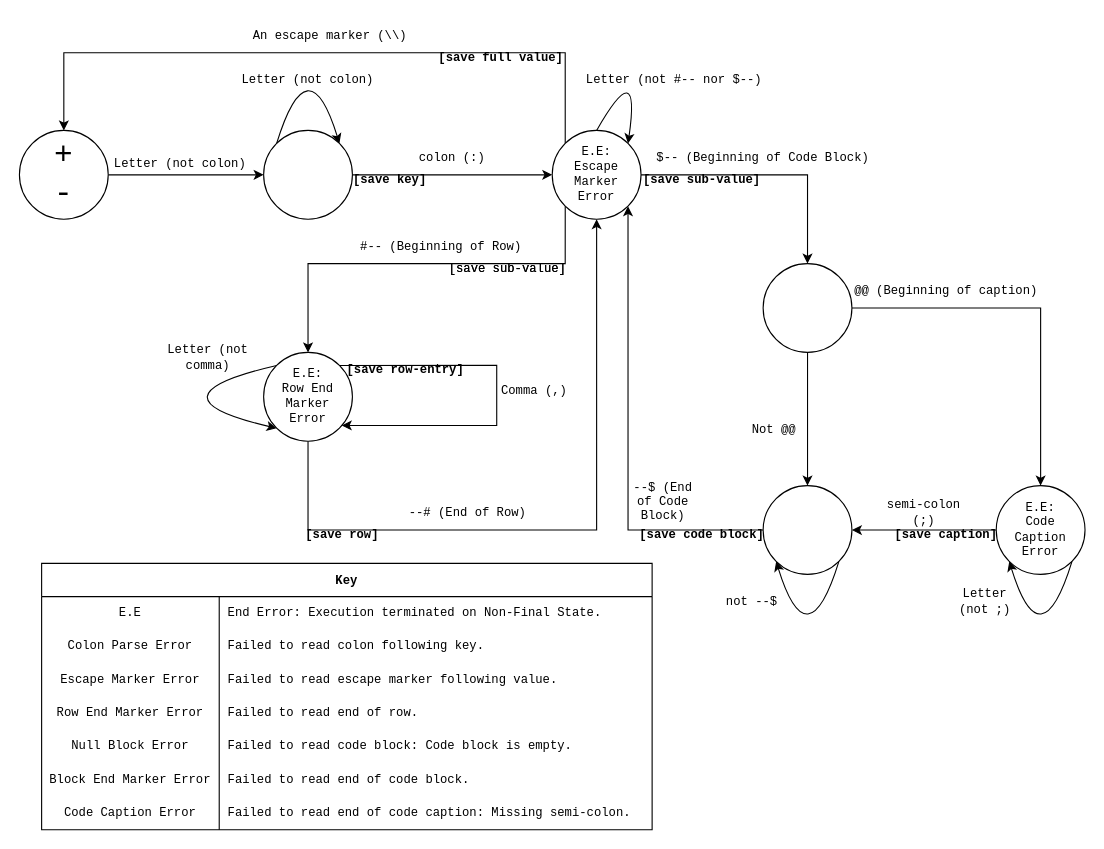
The diagram is 1104 pixels wide and 849 high, and some of its shapes have lost their labels. Each missing label, with the centre of its shape:
"E.E: Block End Marker Error" goes at [807,529].
"E.E: Colon Parse Error" goes at [307,174].
"E.E: Null Block Error" goes at [807,307].
